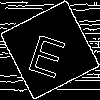E: (25, 25, 71, 79)
